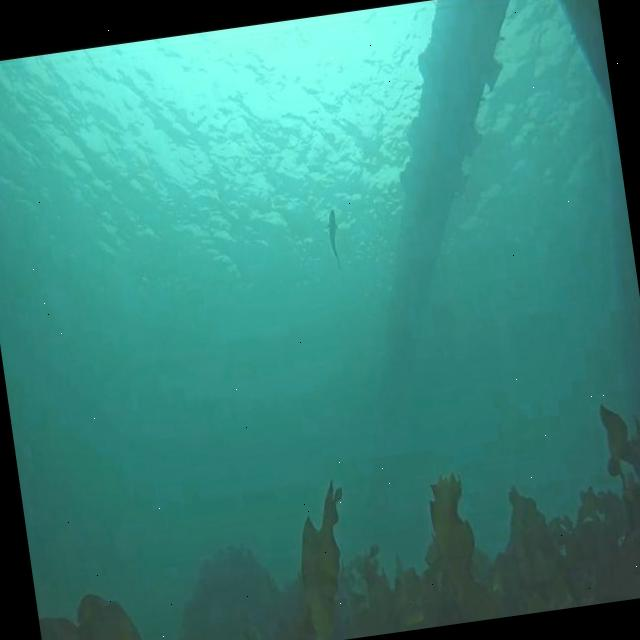fish: (325, 208, 345, 270)
